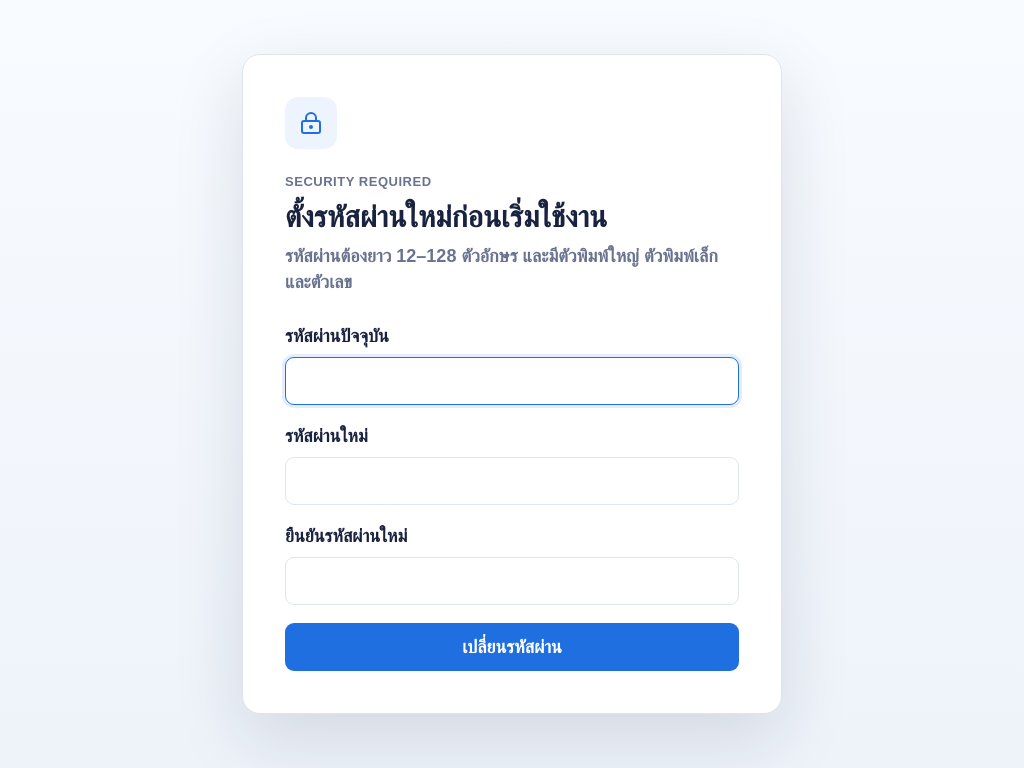
it: ChangePasswordPage › explains that the new password must differ from the current one
Type "CurrentPassword123" into the password field labelled "รหัสผ่านปัจจุบัน" at (512, 381), box top-left (285, 357), bottom-right (739, 405)
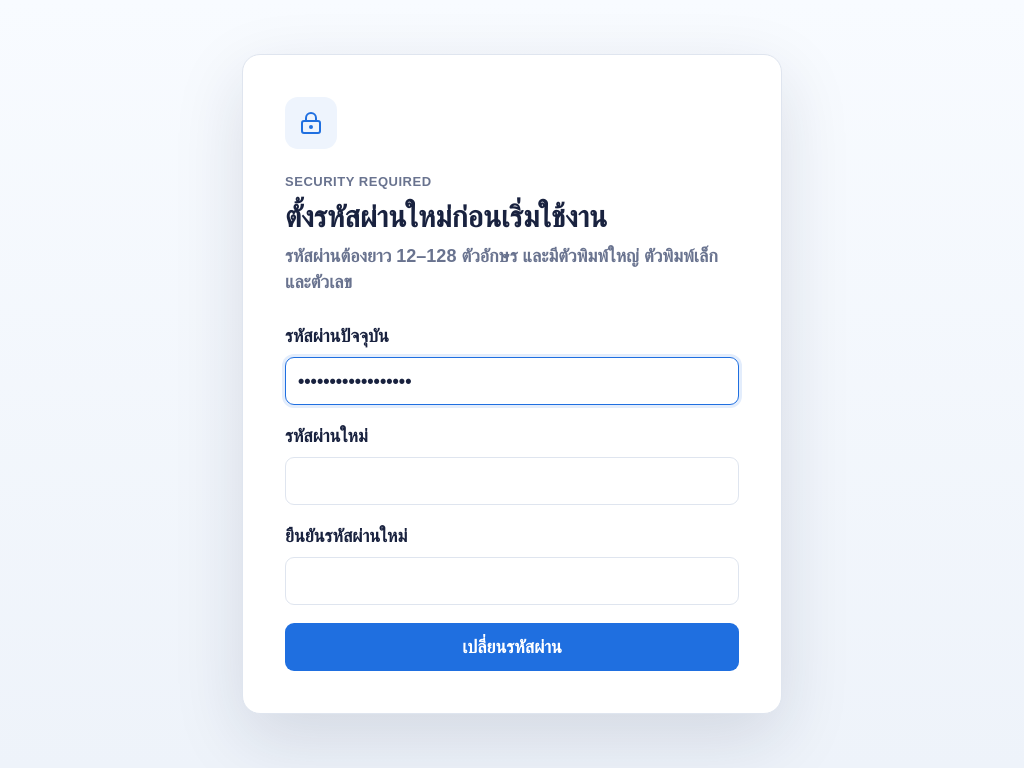
Type "CurrentPassword123" into the password field labelled "รหัสผ่านใหม่" at (512, 481), box top-left (285, 457), bottom-right (739, 505)
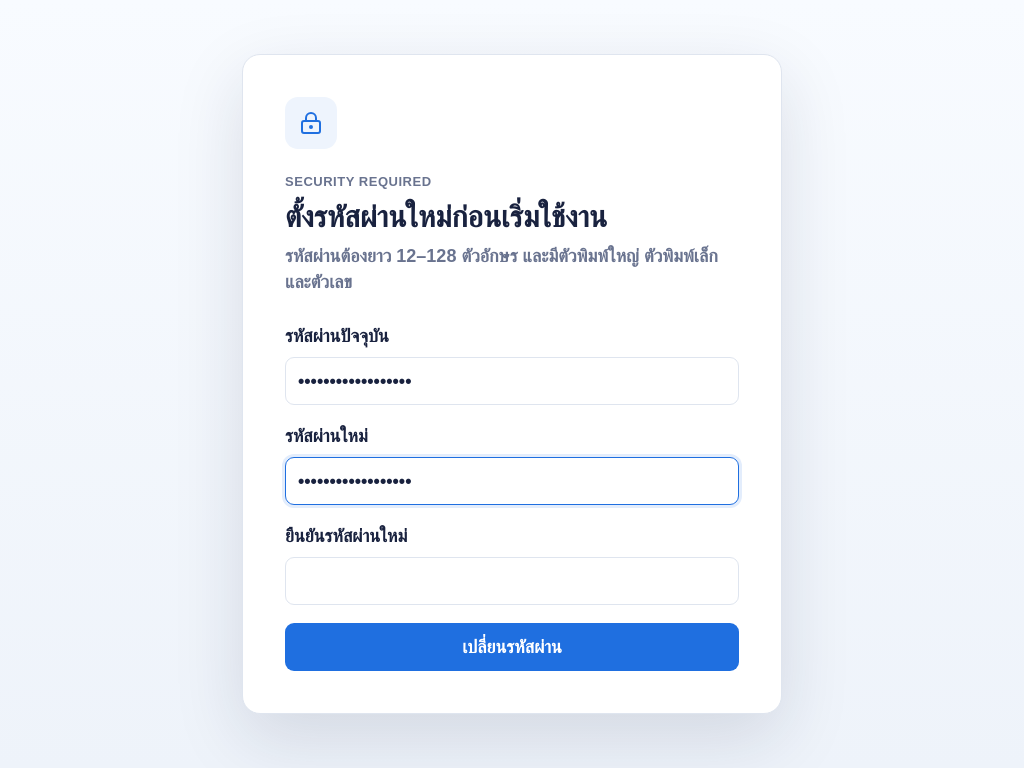
Type "CurrentPassword123" into the password field labelled "ยืนยันรหัสผ่านใหม่" at (512, 581), box top-left (285, 557), bottom-right (739, 605)
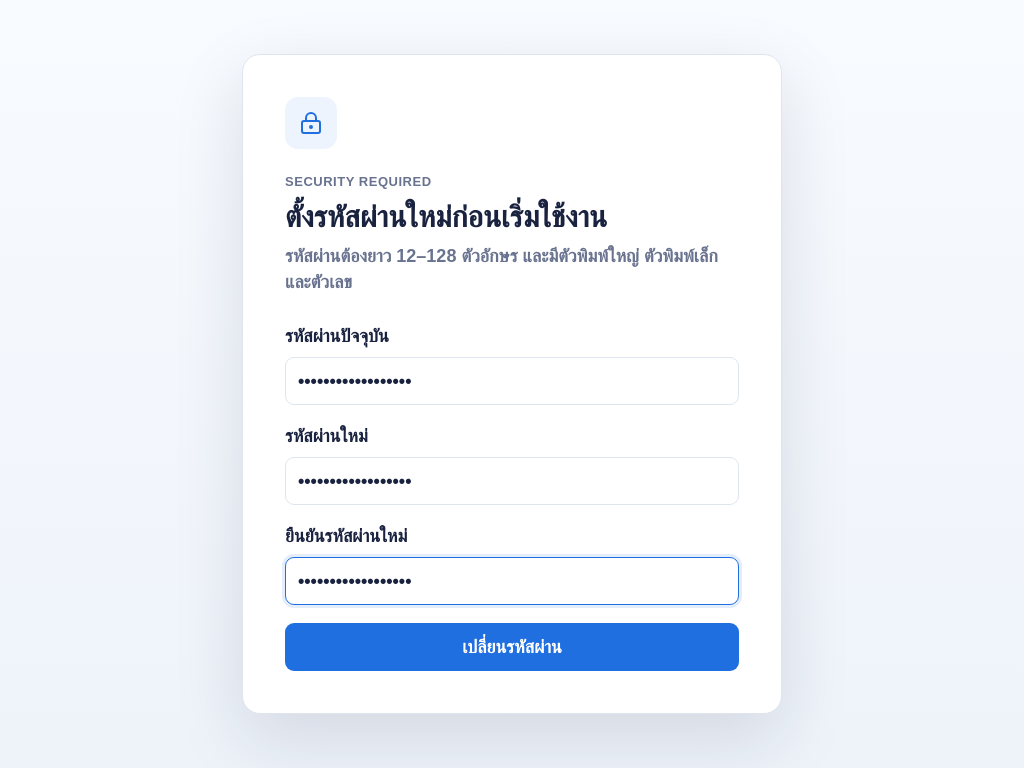
Click the button "เปลี่ยนรหัสผ่าน" at (512, 647), box top-left (285, 623), bottom-right (739, 671)
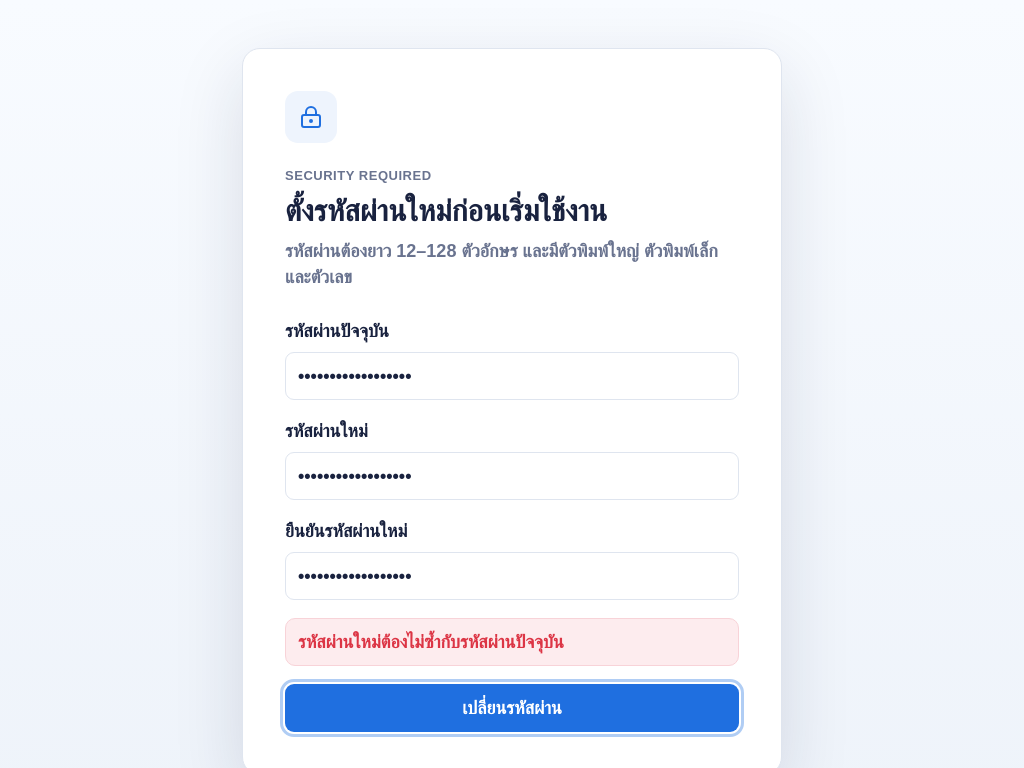
Now the message reads "รหัสผ่านใหม่ต้องไม่ซ้ำกับรหัสผ่านปัจจุบัน", box top-left (298, 632), bottom-right (564, 652)
